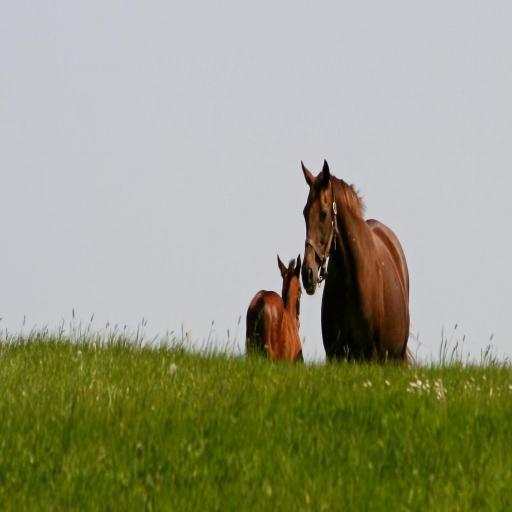horse: (300, 156, 416, 366), (242, 255, 308, 365)
